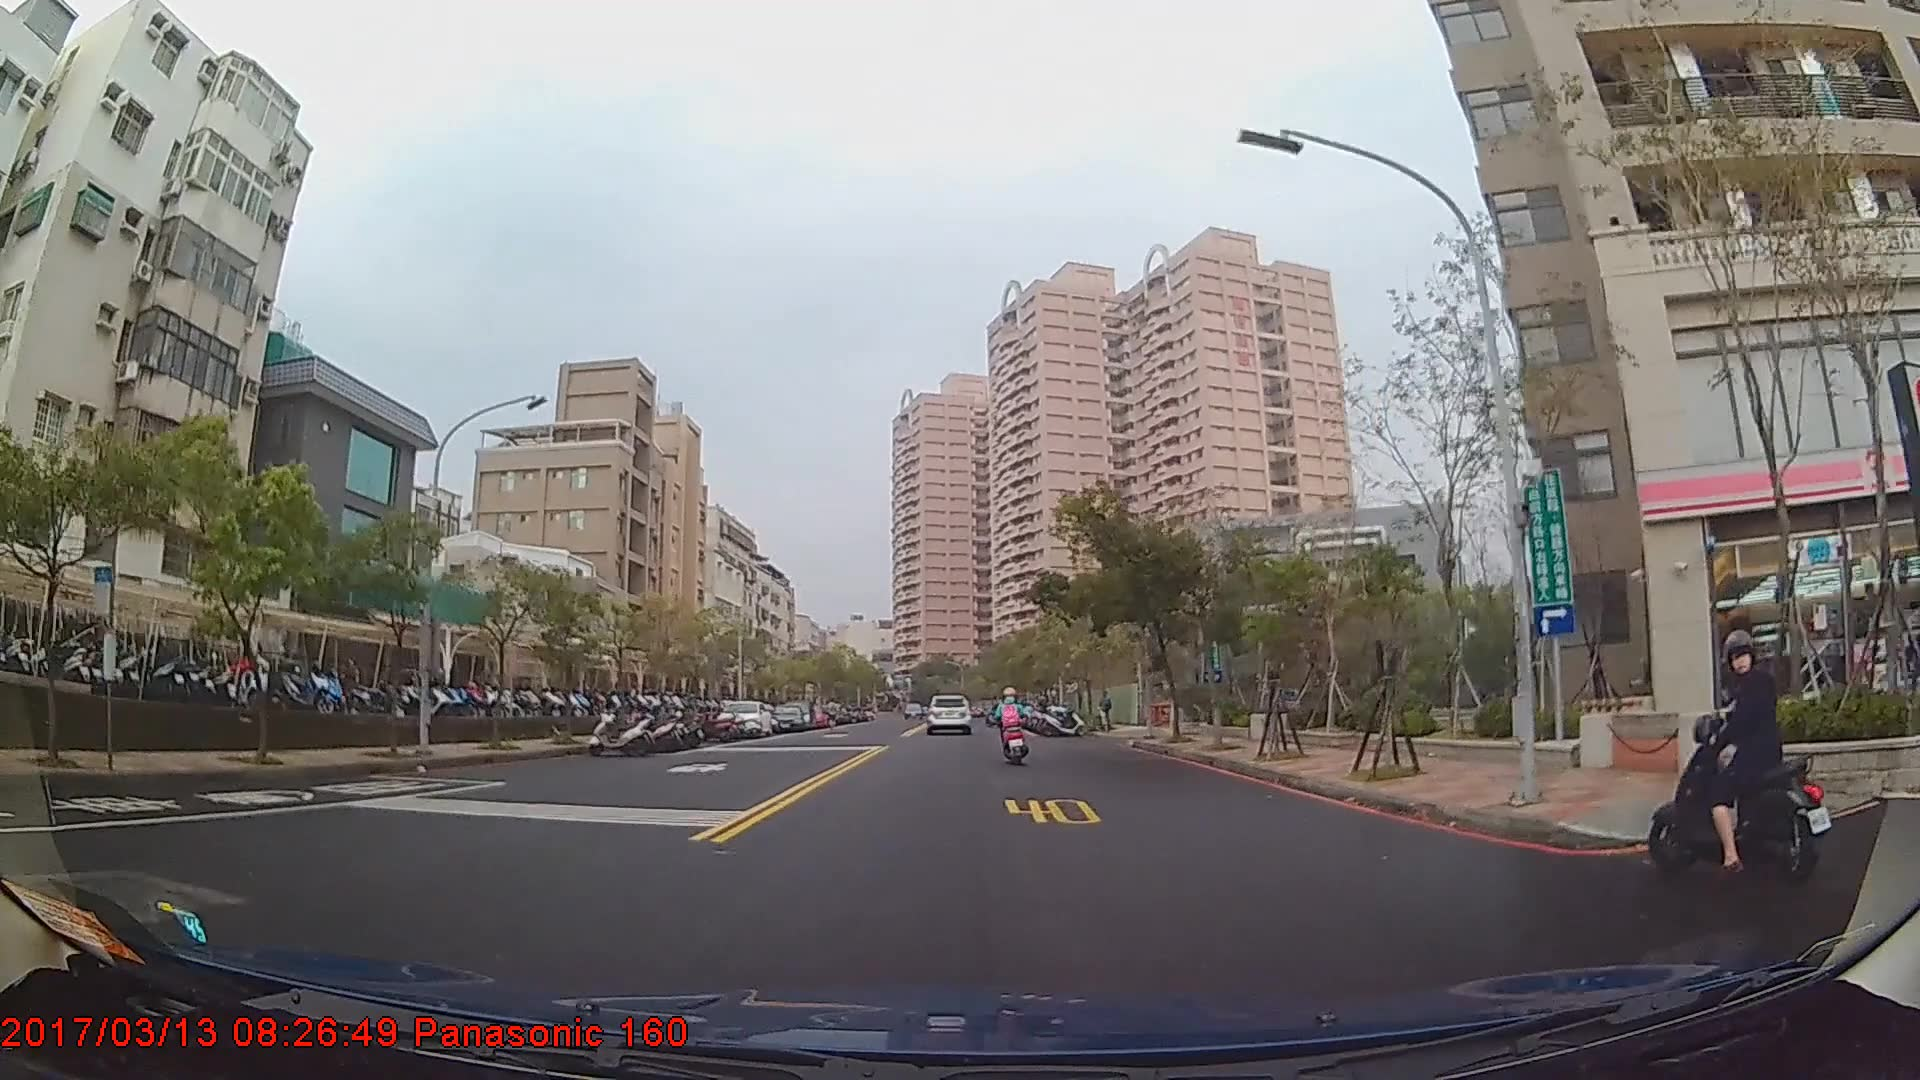rider: (1646, 627, 1844, 876), (995, 687, 1031, 765)
vehicle: (713, 699, 774, 738), (924, 689, 975, 731), (769, 701, 805, 733)
